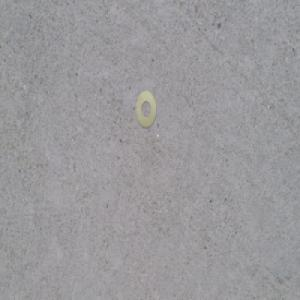Washer: (136, 93, 157, 132)
